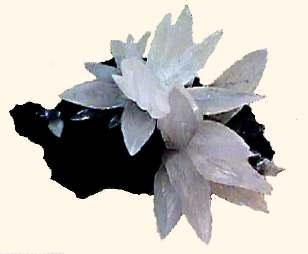calcite: (60, 5, 271, 242)
